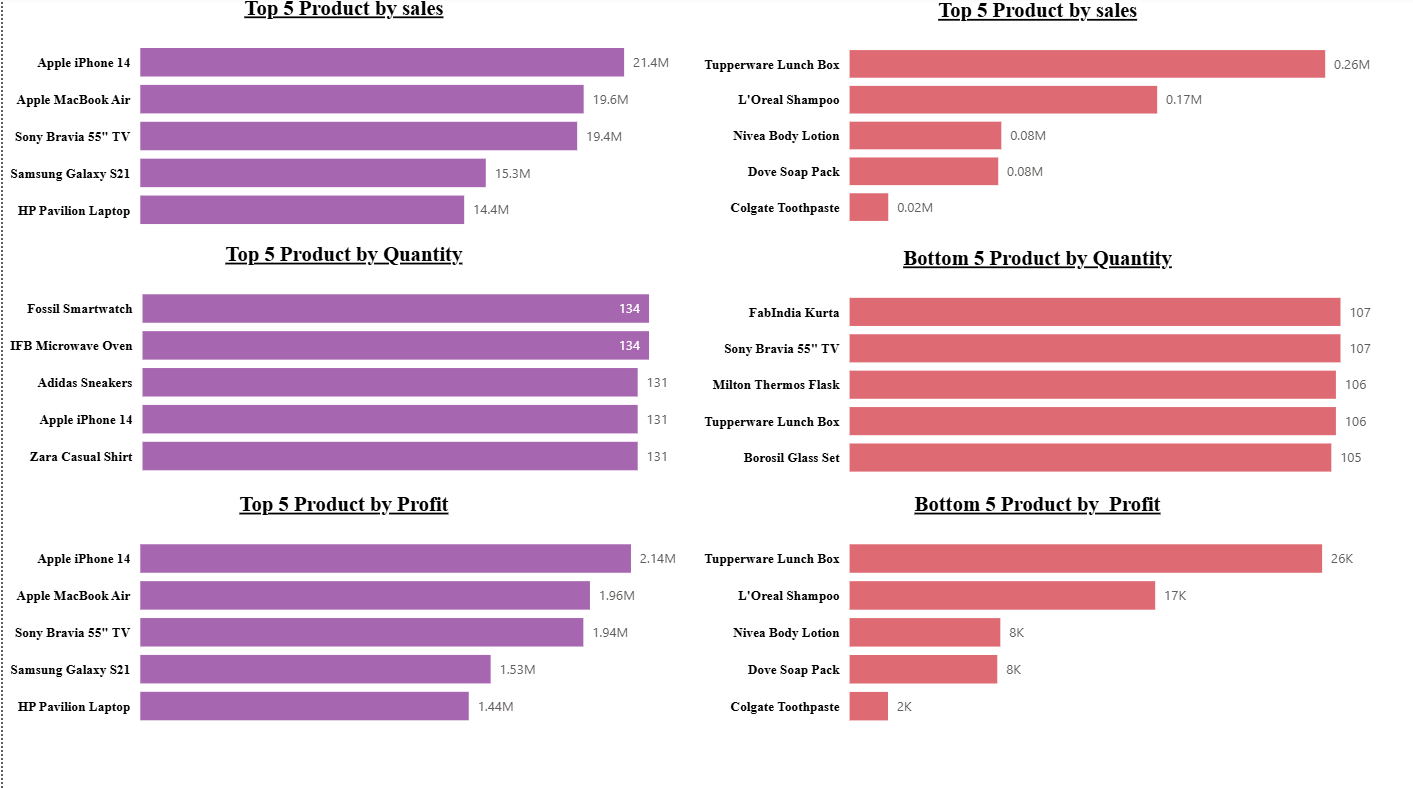

What the dashboard file says about the page in this screenshot:
{"tool":"powerbi","page":{"name":"Top/Bottom 5 Analysis","canvas":[1280,720],"ordinal":0},"visuals":[{"type":"barChart","title":"Top 5 Product by sales","fields":{"Category":["Dim Product.Product Name"],"Y":["Sum(fact table.Net sales)"]},"box":[0,0,614.8,225],"z":0},{"type":"barChart","title":"Top 5 Product by sales","fields":{"Category":["Dim Product.Product Name"],"Y":["Sum(fact table.Net sales)"]},"box":[625.7,2.7,614.8,219.6],"z":1000},{"type":"barChart","title":"Top 5 Product by Quantity","fields":{"Category":["Dim Product.Product Name"],"Y":["CountNonNull(fact table.Units Sold)"]},"box":[0,222.3,614.8,225],"z":2000},{"type":"barChart","title":"Bottom 5 Product by Quantity","fields":{"Category":["Dim Product.Product Name"],"Y":["CountNonNull(fact table.Units Sold)"]},"box":[625.7,225.2,614.5,222.7],"z":3000},{"type":"barChart","title":"Top 5 Product by Profit","fields":{"Category":["Dim Product.Product Name"],"Y":["Sum(fact table.profit)"]},"box":[0,447.3,614.8,225],"z":4000},{"type":"barChart","title":"Bottom 5 Product by  Profit","fields":{"Category":["Dim Product.Product Name"],"Y":["Sum(fact table.profit)"]},"box":[625.7,447.8,614.5,225.2],"z":5000}]}

Visuals, with their boxes in screenshot pixels (x1, y1, x2, y2), scaled from the page's 1280x720 canvas onto the 1413x788 screenshot:
"Top 5 Product by sales" barChart: 0 0 679 246
"Top 5 Product by sales" barChart: 691 3 1369 243
"Top 5 Product by Quantity" barChart: 0 243 679 490
"Bottom 5 Product by Quantity" barChart: 691 246 1369 490
"Top 5 Product by Profit" barChart: 0 490 679 736
"Bottom 5 Product by  Profit" barChart: 691 490 1369 737
